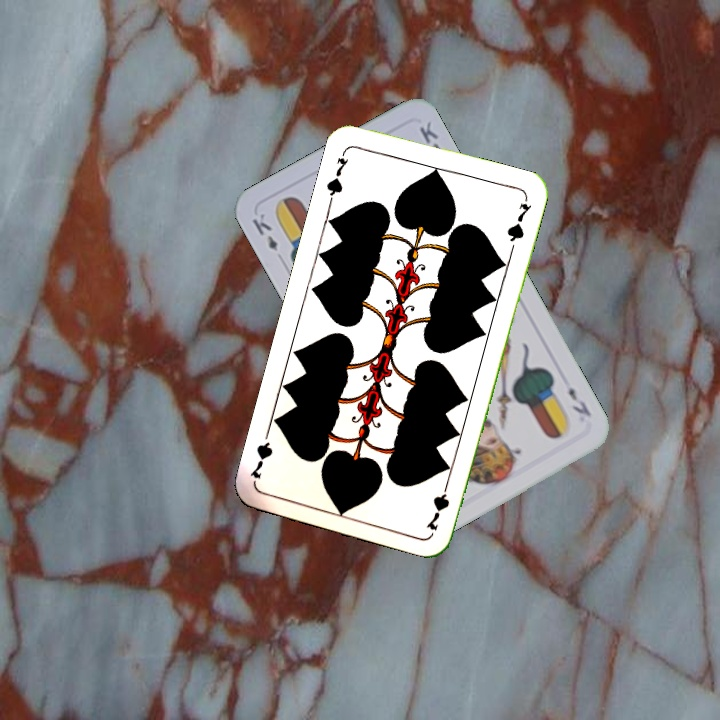EK: (248, 209, 281, 253), (564, 383, 594, 420)
G7: (422, 475, 452, 533), (322, 146, 351, 204)
